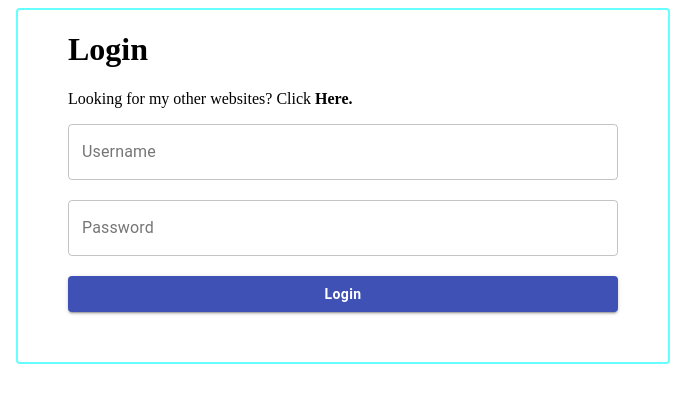
it: LoginFormPage › displays the error message if you click the button after typing in a wrong username
This screenshot has width=687, height=415.
Type "a" into the field labelled "Username".
click(343, 152); type("a")  # box [68,124,618,180]
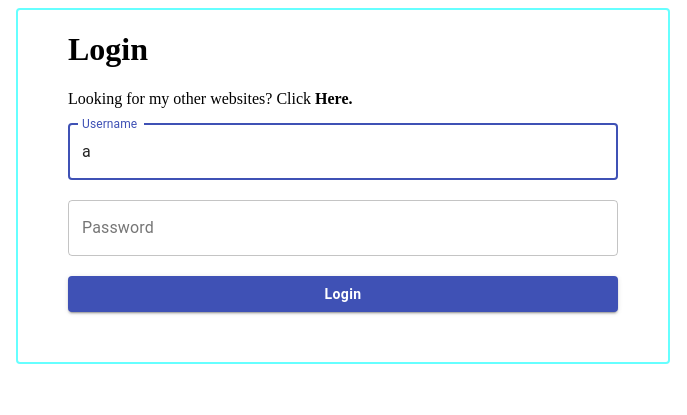
Type "0" into the field labelled "Password".
click(343, 228); type("0")  # box [68,200,618,256]
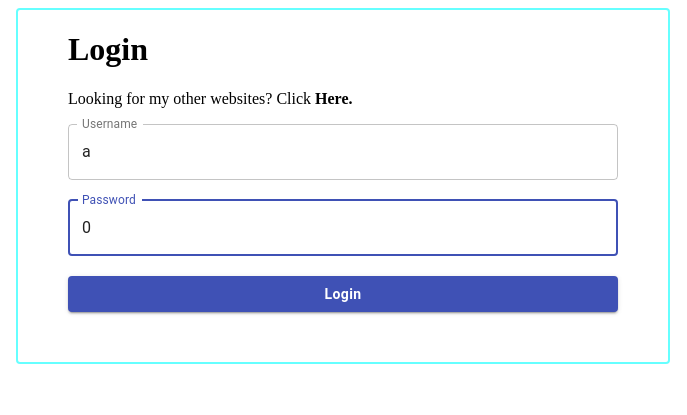
Click the button.
click(343, 294)  # box [68,276,618,312]
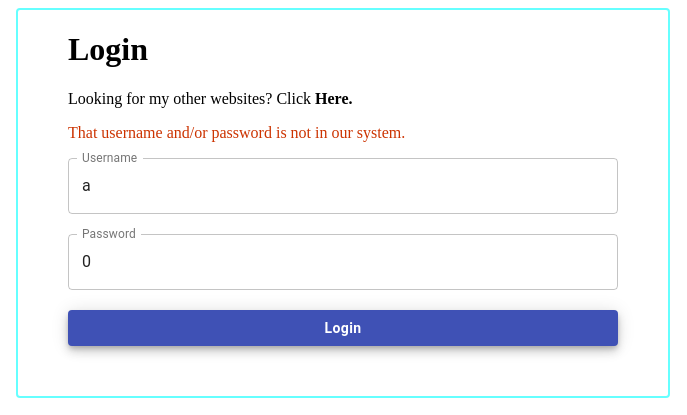
Result: the text "That username and/or password is not in our system." is shown at [68,124,405,141]
